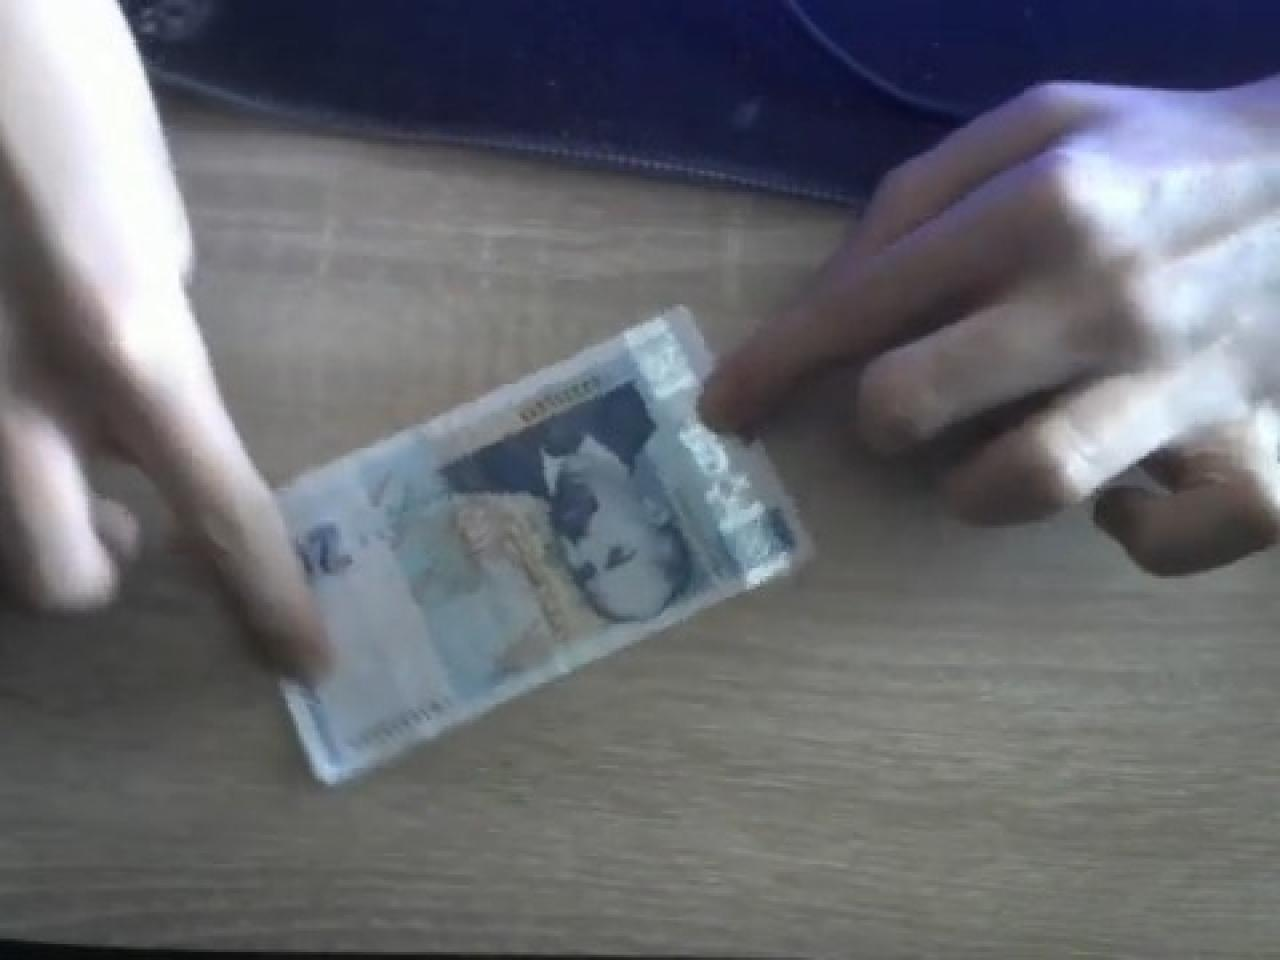20leva: (264, 298, 813, 787)
